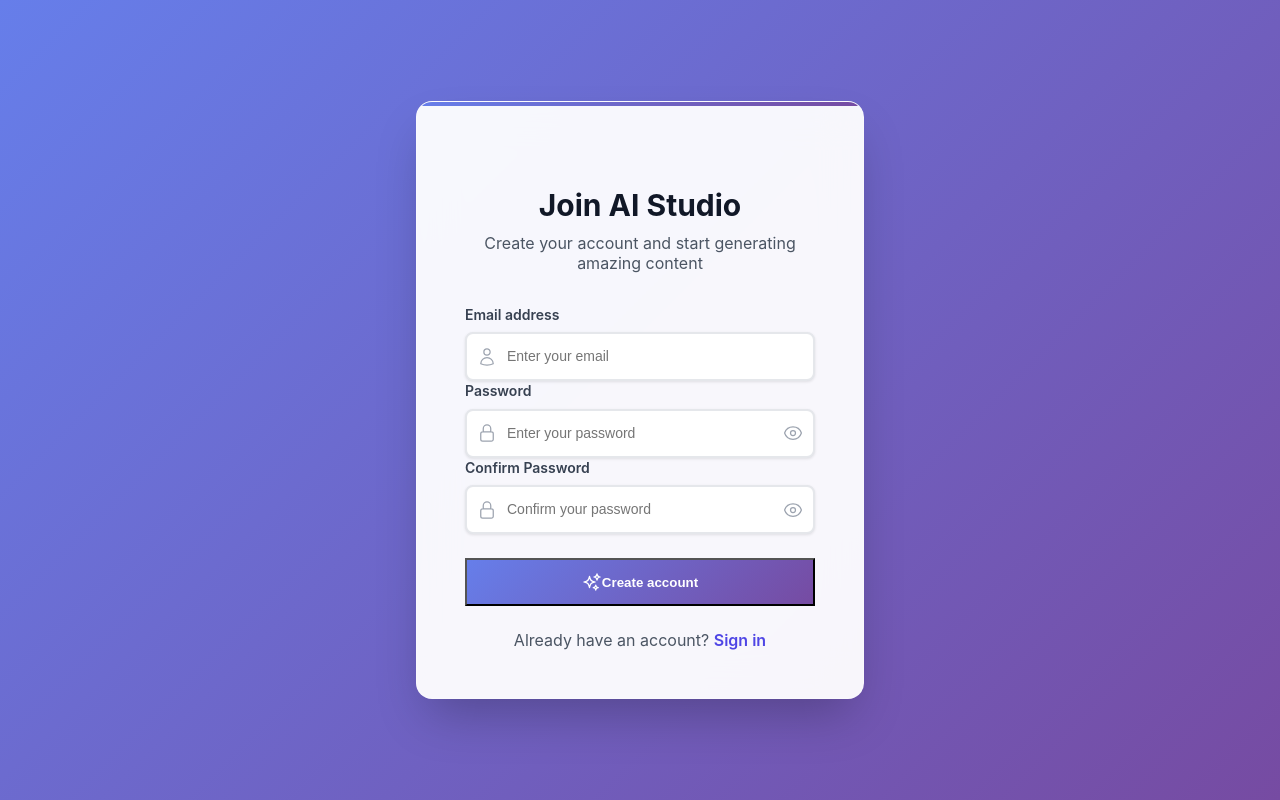
Scenario: SignupForm › Password Strength Indicator › should show password strength indicator when password is entered
Type "weak" into the password field labelled "Password".
click(640, 433); type("weak")  # box left=465, top=409, right=815, bottom=458
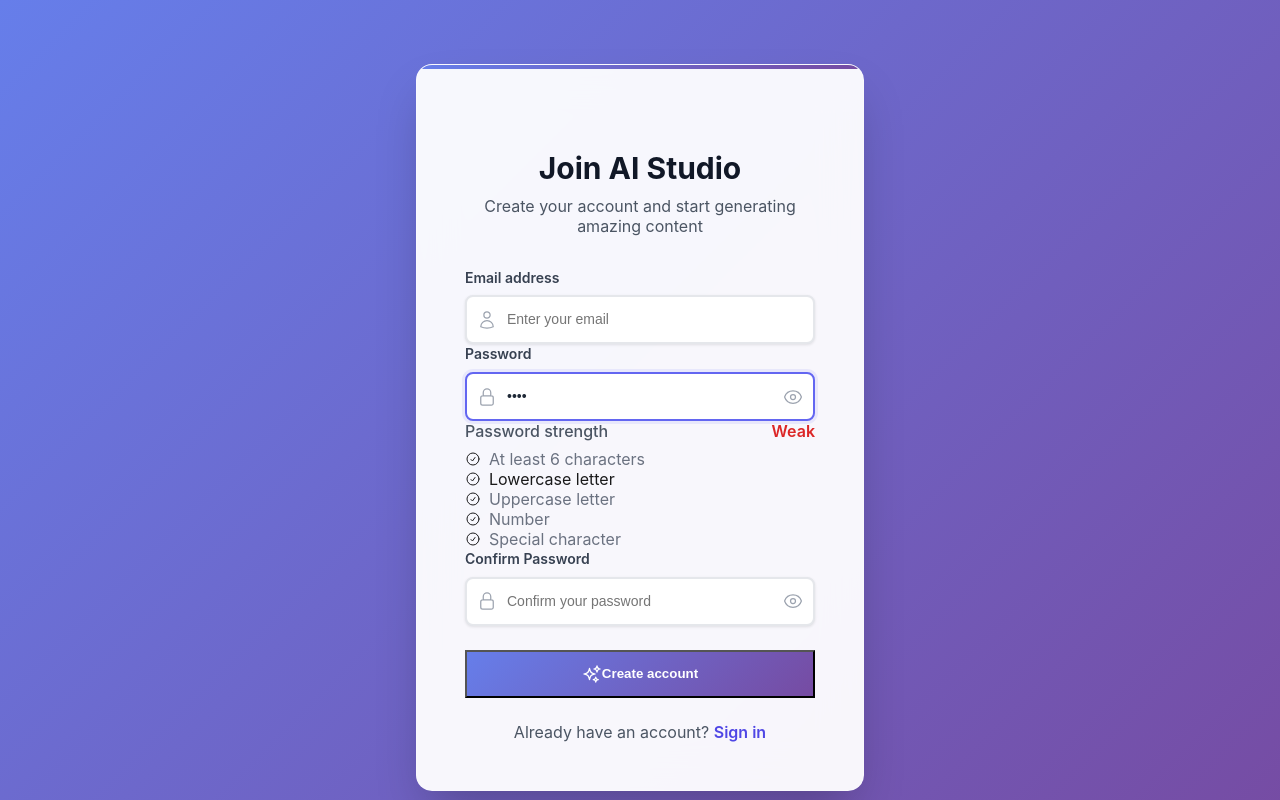
Result: the text "Password strength" is shown at left=465, top=421, right=608, bottom=441
Result: the text "Weak" is shown at left=772, top=421, right=815, bottom=441
